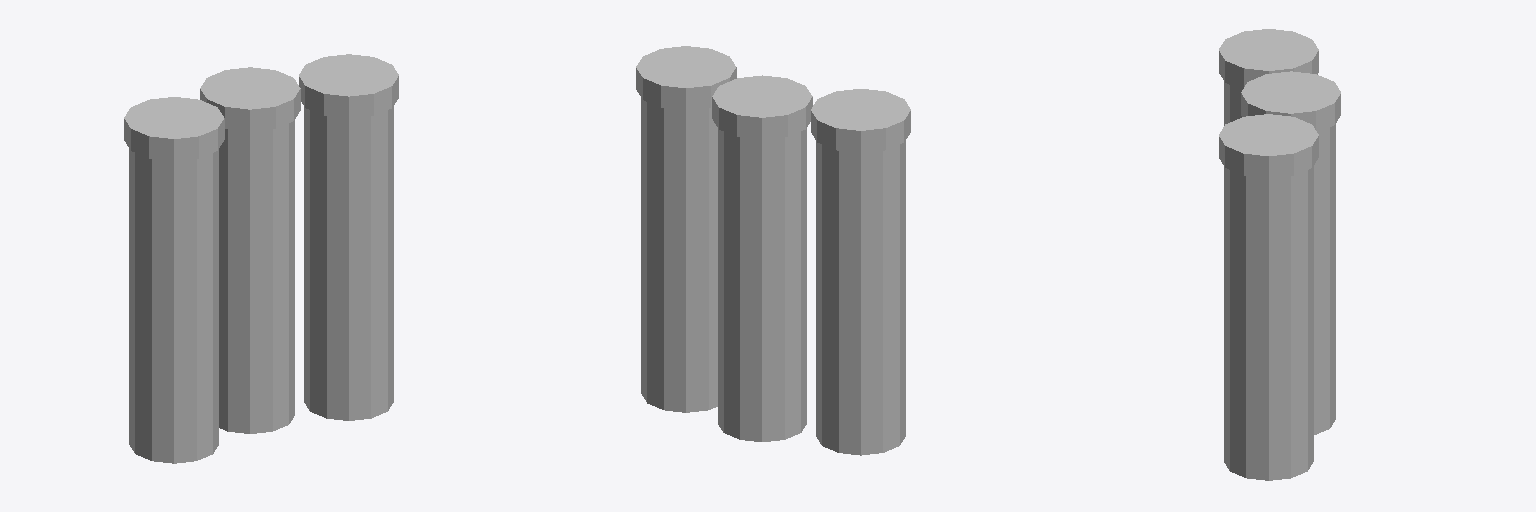
Rendered from Tubes.obj.
The picture shows the model from 3 angles: view 1: azimuth 30°, elevation 25°; view 2: azimuth 150°, elevation 25°; view 3: azimuth 270°, elevation 25°; orthographic projection.
Visible parts, largest first — view 1: Tubes_Cube.001; view 2: Tubes_Cube.001; view 3: Tubes_Cube.001.
Boxes of the visible parts, <box> form: Tubes_Cube.001: <box>124,54,398,463</box>; Tubes_Cube.001: <box>636,46,910,455</box>; Tubes_Cube.001: <box>1219,29,1340,480</box>.
Bounding box in the file's own units: 2.7 × 3.22 × 1.1.